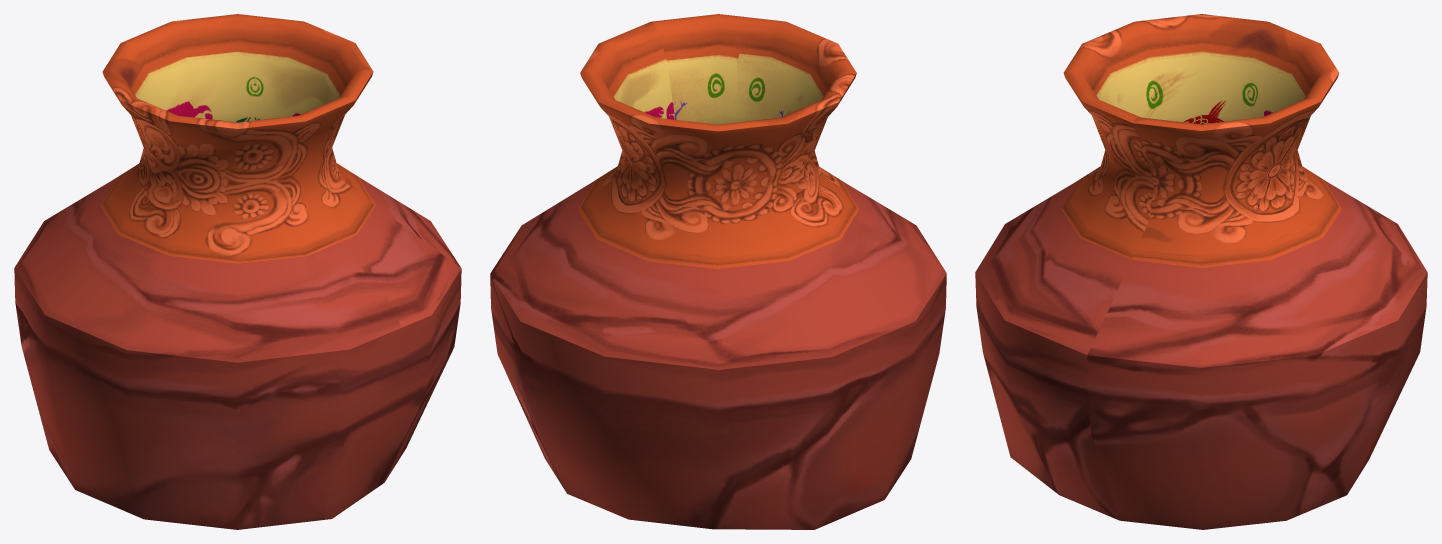
The model's file is Market_pottery3.fbx.
The picture shows the model from 3 angles, left to right: view 1: azimuth 30°, elevation 25°; view 2: azimuth 150°, elevation 25°; view 3: azimuth 270°, elevation 25°; orthographic projection. The views are drawn at different scales.
Parts seen in each view (by area): view 1: Market_pottery3; view 2: Market_pottery3; view 3: Market_pottery3.
Boxes of the visible parts, x1=… form: Market_pottery3: x1=14, y1=14, x2=461, y2=529; Market_pottery3: x1=490, y1=14, x2=946, y2=529; Market_pottery3: x1=975, y1=14, x2=1427, y2=529.
Size of the model in its own units: 0.4768 by 0.4497 by 0.4768.
